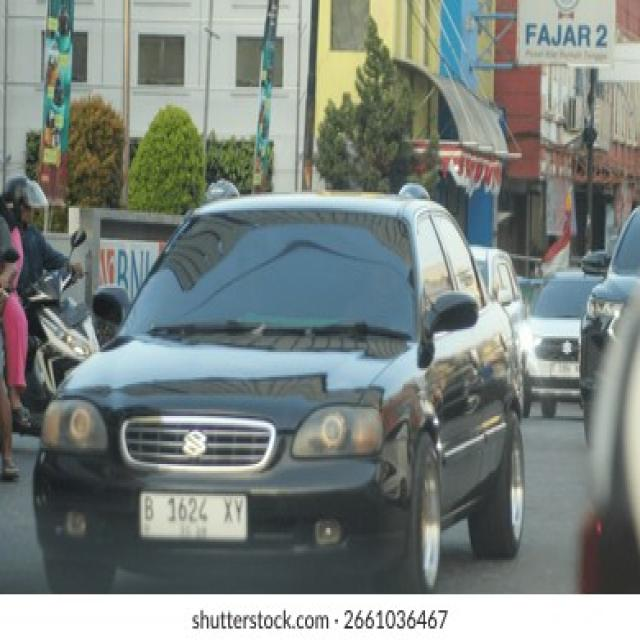seat: (180, 428, 210, 462)
